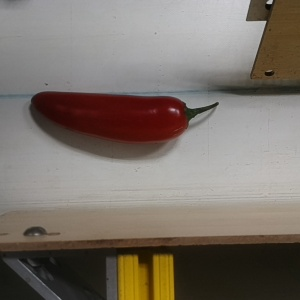Cut Point: (171, 96, 195, 137)
